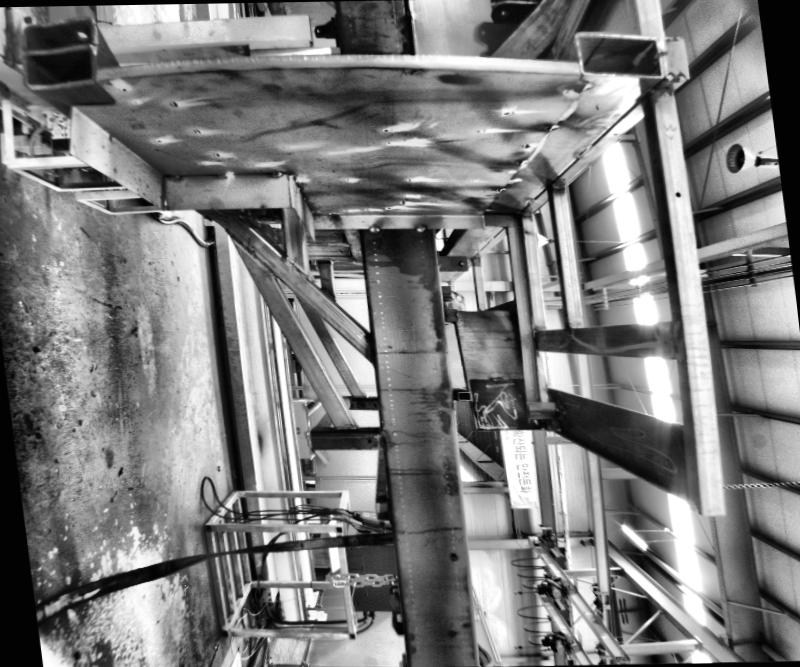hole: (670, 189, 681, 199), (446, 550, 454, 557), (362, 437, 370, 443), (632, 338, 638, 344)
welding: (204, 168, 230, 182), (160, 168, 180, 180), (408, 223, 426, 232), (260, 169, 280, 176), (364, 223, 376, 234)
